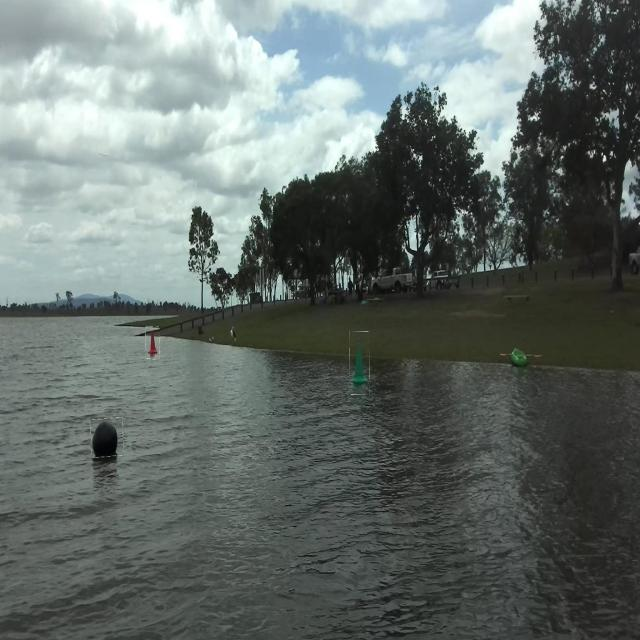Black_Buoy: (88, 411, 121, 465)
Green_Buoy: (349, 339, 373, 402)
Red_Buoy: (147, 322, 160, 359)
